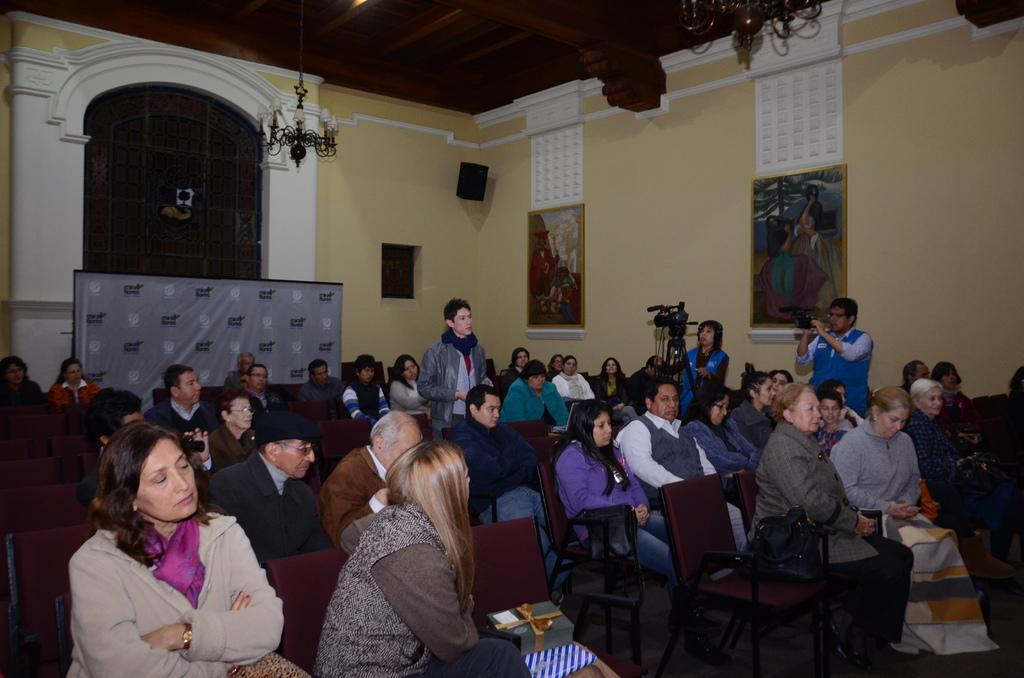Chair: (736, 467, 884, 677), (530, 456, 661, 664), (467, 513, 631, 677), (0, 528, 97, 677), (262, 547, 346, 677), (10, 478, 89, 539), (31, 420, 89, 483), (0, 408, 54, 453), (317, 417, 371, 459), (0, 450, 52, 487), (54, 594, 75, 677), (292, 399, 349, 428), (59, 396, 93, 437), (525, 430, 563, 455), (501, 420, 548, 438), (196, 385, 223, 407), (412, 414, 431, 441), (271, 383, 304, 398), (155, 387, 172, 407)
